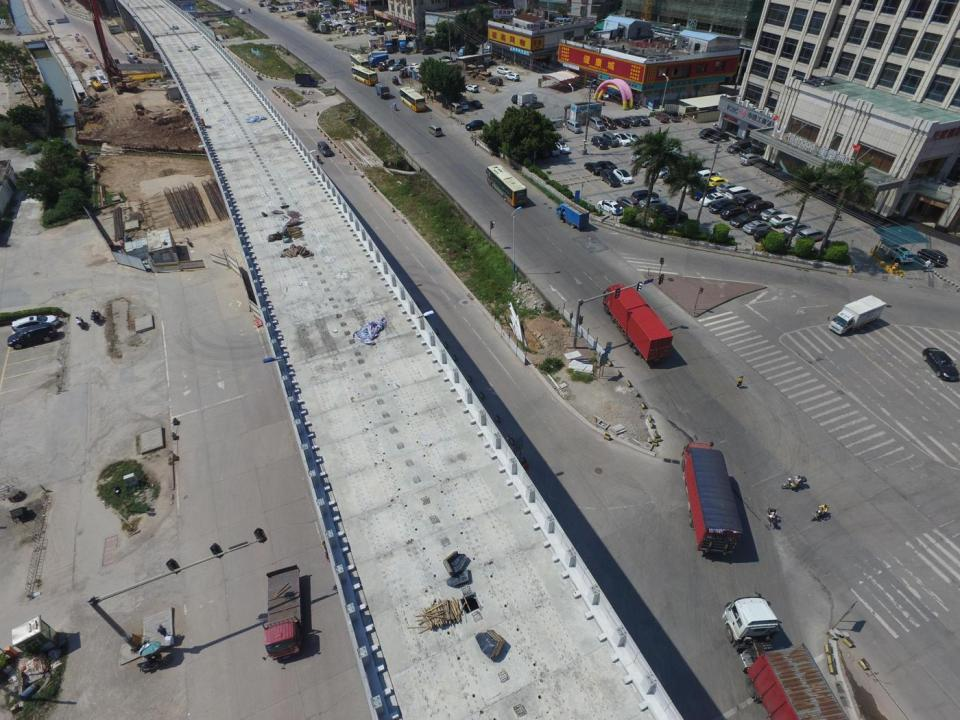bus: (486, 164, 526, 206), (398, 87, 426, 113), (351, 64, 377, 86), (349, 52, 370, 72)
car: (7, 322, 57, 348), (923, 347, 960, 380), (12, 315, 59, 334), (918, 247, 948, 266), (796, 227, 826, 243), (890, 244, 915, 263), (732, 212, 761, 228), (742, 220, 770, 235), (700, 192, 729, 206), (747, 199, 774, 214), (709, 200, 736, 215), (598, 199, 623, 215), (599, 170, 621, 188), (726, 139, 752, 154), (630, 189, 659, 202), (753, 228, 778, 243), (769, 214, 797, 227), (759, 208, 787, 221), (616, 196, 640, 211), (661, 210, 688, 223), (783, 221, 810, 234), (613, 168, 634, 184), (719, 205, 742, 219), (652, 204, 676, 217), (464, 119, 486, 132), (694, 188, 715, 201), (681, 181, 702, 194), (739, 194, 761, 206), (584, 162, 604, 175), (640, 197, 667, 206), (596, 160, 618, 171), (630, 152, 652, 163), (552, 140, 570, 153), (591, 137, 609, 150), (614, 133, 633, 145), (639, 157, 656, 170), (707, 132, 729, 142), (717, 183, 738, 193), (743, 146, 764, 156), (661, 144, 682, 154), (699, 127, 715, 140), (624, 132, 640, 145), (706, 176, 729, 185), (526, 100, 544, 111), (654, 113, 670, 124), (602, 116, 614, 130), (655, 165, 670, 176), (635, 115, 650, 126), (547, 145, 562, 155), (496, 66, 510, 76), (463, 84, 478, 93), (511, 93, 524, 103), (614, 120, 630, 128), (389, 63, 402, 72), (128, 57, 141, 66), (625, 117, 641, 124), (489, 78, 504, 85), (459, 101, 469, 110), (409, 63, 421, 70), (422, 48, 436, 54), (472, 100, 482, 108), (507, 74, 520, 80), (439, 56, 452, 62), (480, 50, 492, 56), (126, 52, 135, 60), (368, 28, 376, 36), (324, 4, 332, 10), (238, 9, 246, 14), (46, 20, 54, 25), (278, 6, 285, 11), (376, 29, 383, 34), (287, 6, 293, 11), (258, 3, 265, 7), (259, 0, 266, 2)
van: (722, 592, 846, 718), (680, 443, 742, 559), (605, 284, 675, 360), (262, 566, 302, 660), (826, 296, 887, 334), (555, 203, 588, 231), (694, 169, 720, 183), (516, 92, 539, 107), (724, 186, 752, 198), (294, 74, 318, 86), (587, 117, 605, 132), (375, 81, 390, 99), (741, 152, 761, 165), (564, 119, 582, 133), (368, 54, 388, 66), (456, 45, 475, 57), (318, 141, 332, 157), (604, 133, 618, 147), (89, 76, 103, 90), (383, 34, 393, 52), (398, 35, 407, 54), (367, 52, 388, 60), (547, 118, 563, 128), (429, 126, 443, 137), (448, 103, 462, 113), (670, 112, 682, 121), (394, 57, 406, 66), (384, 58, 395, 65), (266, 6, 274, 12)
